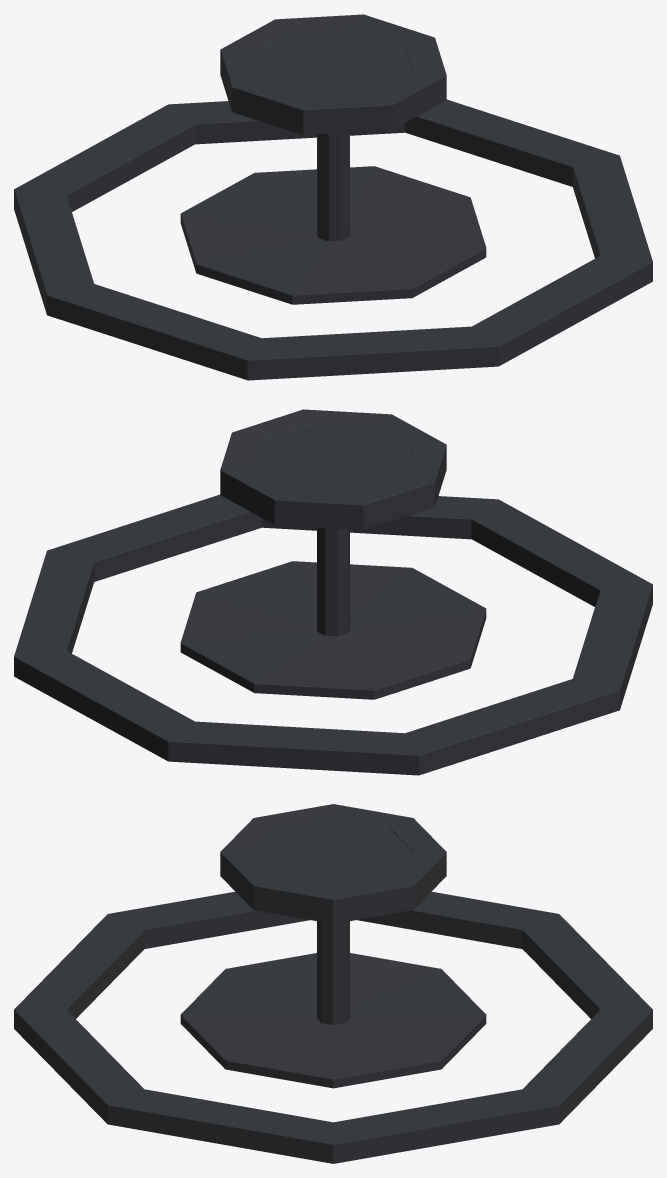
File: SM_Prop_FireSprinkler.fbx
3 renders of one model, top to bottom at view 1: azimuth 30°, elevation 25°; view 2: azimuth 150°, elevation 25°; view 3: azimuth 270°, elevation 25°, orthographic. The views are drawn at different scales.
Parts seen in each view (by area): view 1: SM_Prop_FireSprinkler; view 2: SM_Prop_FireSprinkler; view 3: SM_Prop_FireSprinkler.
Boxes of the visible parts, bbox=[...] form: SM_Prop_FireSprinkler: bbox=[14, 14, 652, 380]; SM_Prop_FireSprinkler: bbox=[14, 409, 652, 775]; SM_Prop_FireSprinkler: bbox=[14, 804, 652, 1163].
Bounding box in the file's own units: 29.62 × 9.07 × 29.62.
Materials: 1 (1 with a texture image).
